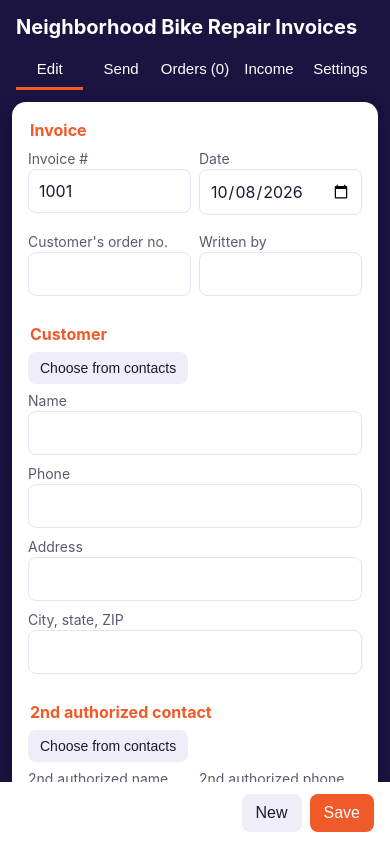
Test: invoice app › saves an invoice and lists it under Orders
In the field labelled "Name": (195, 433) [28,411,362,455], type "Jordan"
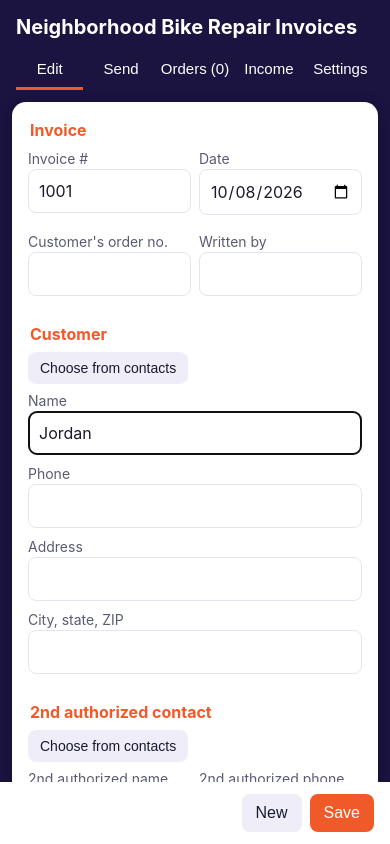
Click the button "Save": (342, 813) [310,794,374,832]
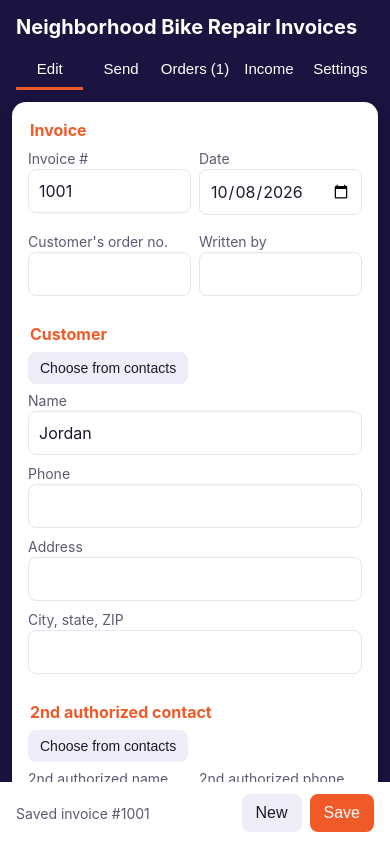
Check: the message reads "Saved invoice #1001", box [16,804,150,822]
Click the tab "Orders (1)": (195, 70) [159,50,231,90]
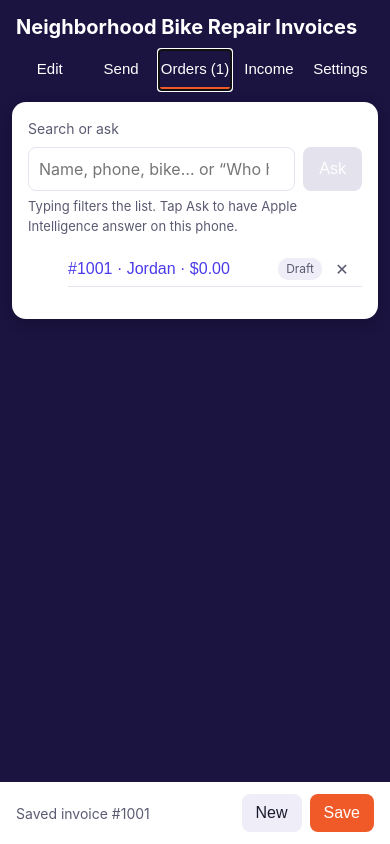
Check: the button "#1001 · Jordan · $0.00" is shown, box [68,252,278,286]
